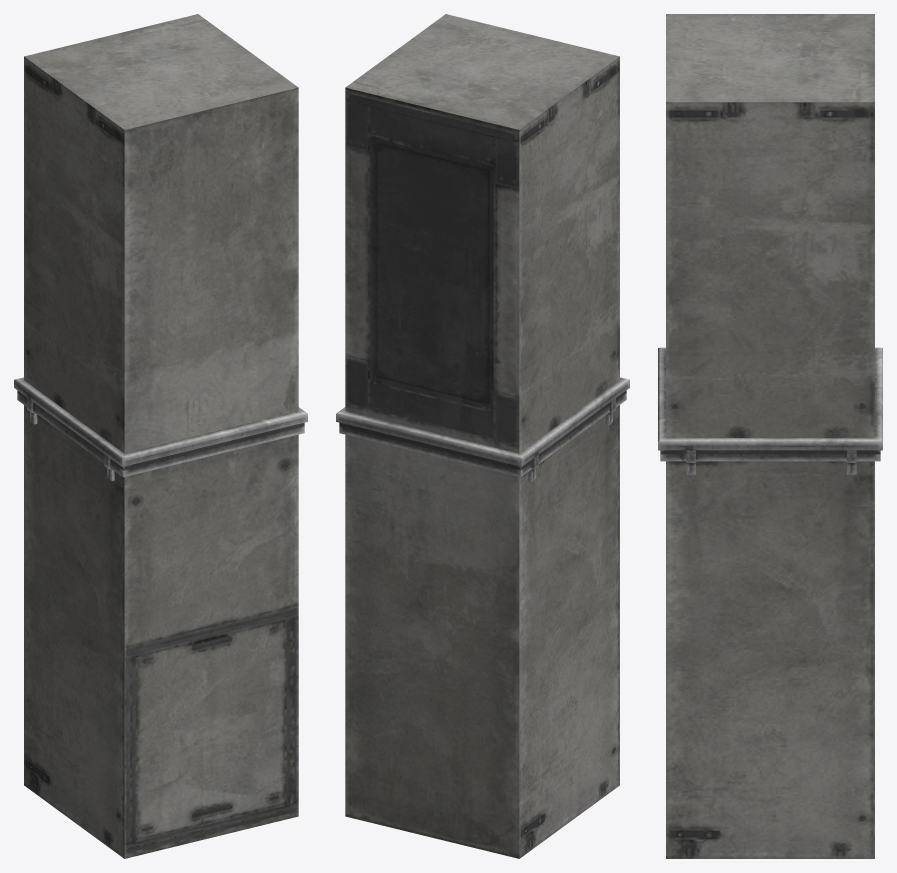
The model's file is CP_Column_Concrete_B_05.fbx.
3 renders of one model, left to right at view 1: azimuth 30°, elevation 25°; view 2: azimuth 150°, elevation 25°; view 3: azimuth 270°, elevation 25°, orthographic. The views are drawn at different scales.
Parts seen in each view (by area): view 1: CP_Column_Concrete_B_05; view 2: CP_Column_Concrete_B_05; view 3: CP_Column_Concrete_B_05.
Part boxes in pixels (bbox=[...]): CP_Column_Concrete_B_05: bbox=[14, 14, 307, 858]; CP_Column_Concrete_B_05: bbox=[336, 14, 629, 858]; CP_Column_Concrete_B_05: bbox=[658, 14, 882, 858].
Size of the model in its own units: 53.27 by 200 by 53.84.
